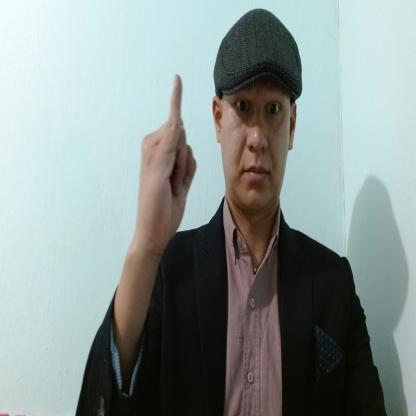I: (136, 72, 197, 244)
